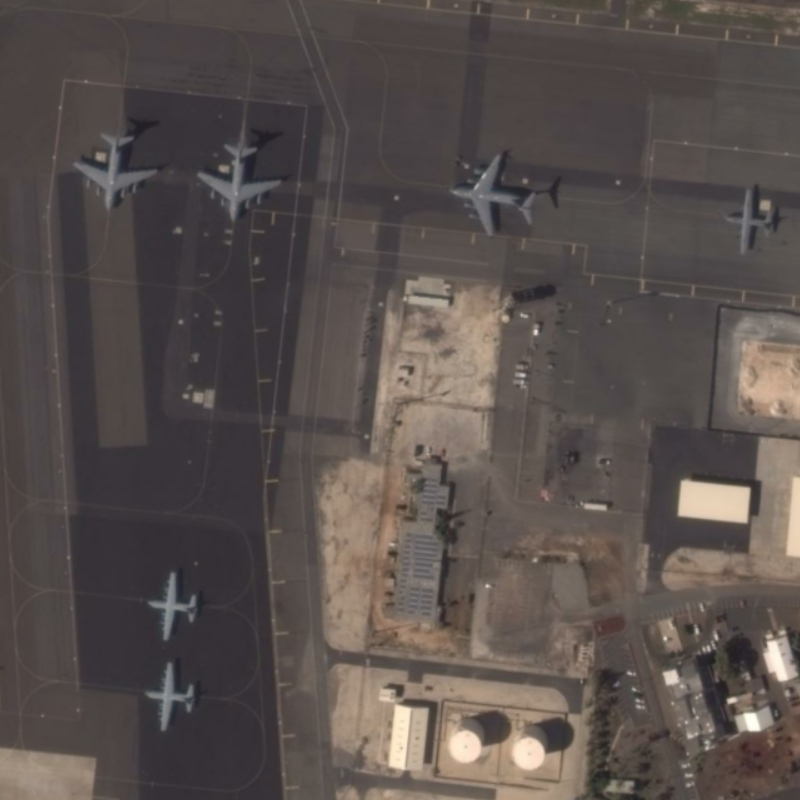A2: (140, 567, 200, 644), (139, 659, 199, 735), (722, 184, 778, 257)
A3: (444, 150, 539, 241), (194, 137, 285, 226), (71, 129, 161, 217)
